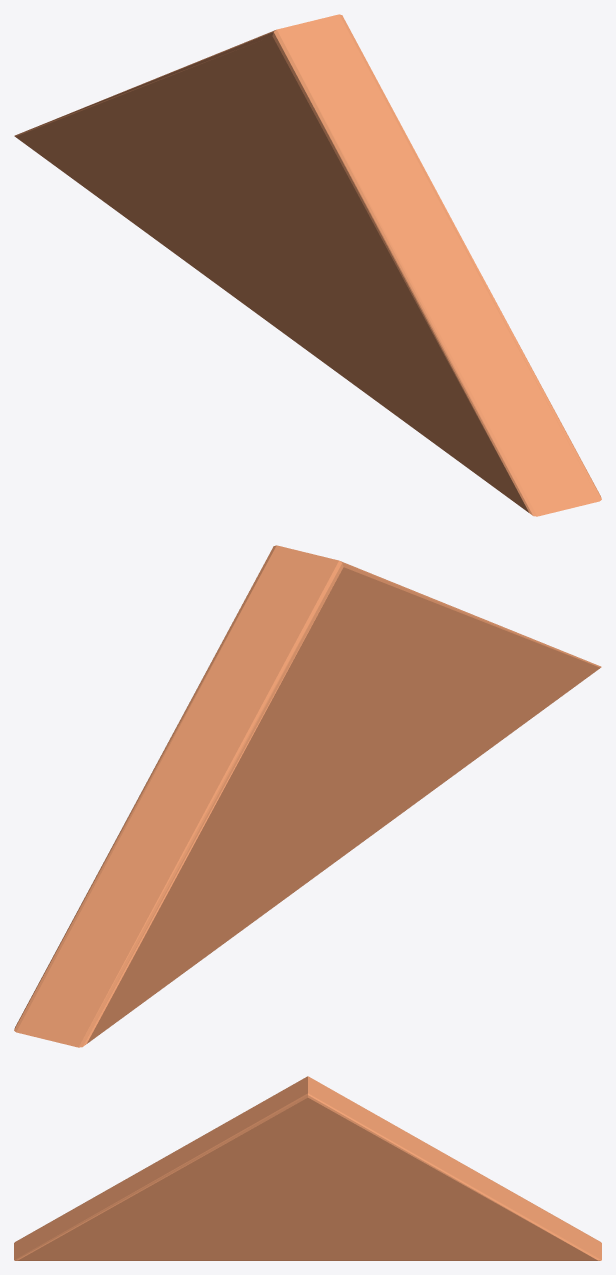
The model's file is hero-shooter-harbour-payload-roof-hip-end-35b1d4ca__27698.glb.
The picture shows the model from 3 angles, top to bottom: view 1: azimuth 30°, elevation 25°; view 2: azimuth 150°, elevation 25°; view 3: azimuth 270°, elevation 25°; orthographic projection. The views are drawn at different scales.
Parts seen in each view (by area): view 1: roof-hip-end; view 2: roof-hip-end; view 3: roof-hip-end.
Boxes of the visible parts, <box> form: roof-hip-end: <box>14,14,601,516</box>; roof-hip-end: <box>14,545,601,1047</box>; roof-hip-end: <box>14,1076,601,1260</box>.
Size of the model in its own units: 0.3197 by 1.27 by 4.05.
